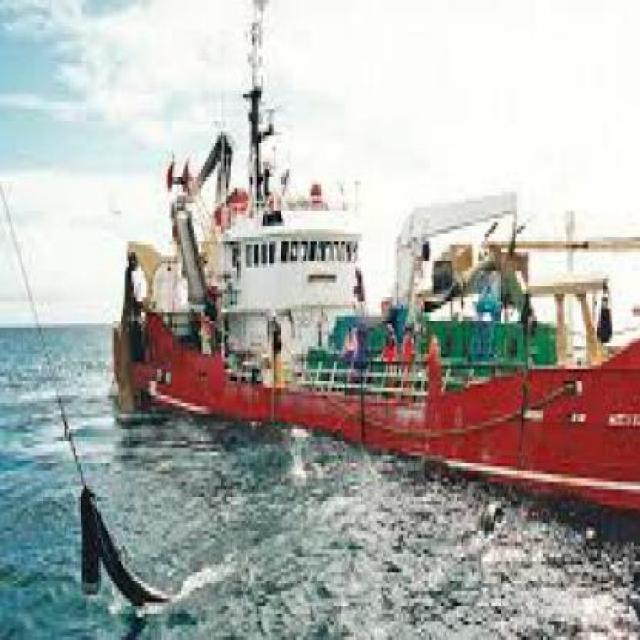Ship: (102, 4, 639, 540)
